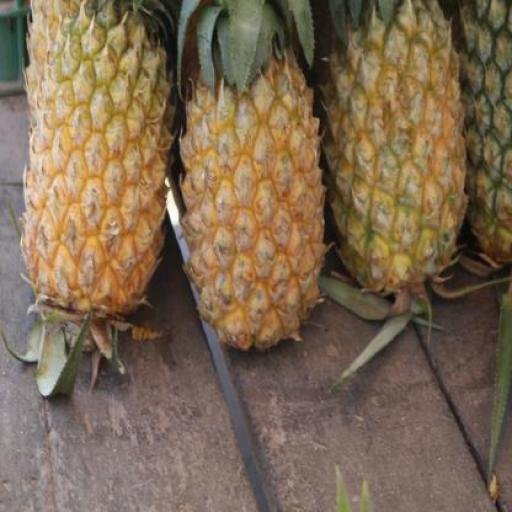------------------------------: (330, 7, 472, 299)
Pineapple - v8 v1: (23, 2, 168, 325), (179, 50, 328, 351)
